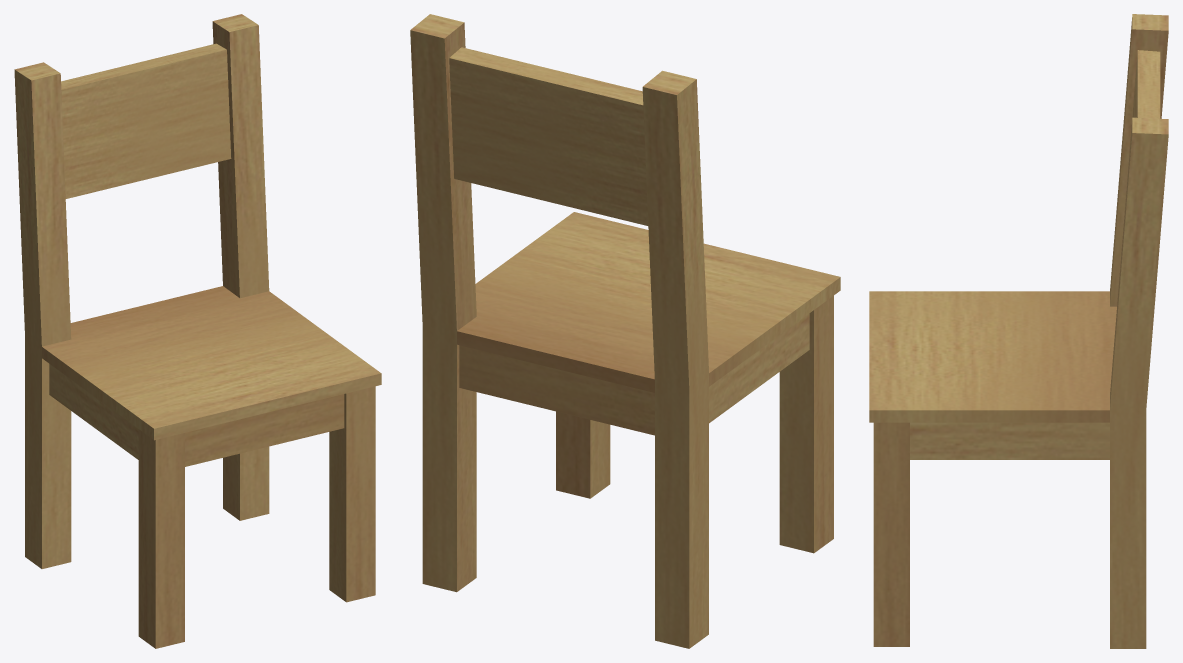
Rendered from chair.fbx.
3 renders of one model, left to right at view 1: azimuth 30°, elevation 25°; view 2: azimuth 150°, elevation 25°; view 3: azimuth 270°, elevation 25°, orthographic. The views are drawn at different scales.
Visible parts, largest first — view 1: chairA; view 2: chairA; view 3: chairA.
Boxes of the visible parts, <box> form: chairA: <box>14,14,381,648</box>; chairA: <box>410,14,840,648</box>; chairA: <box>869,14,1168,648</box>.
Bounding box in the file's own units: 3.72 × 7.52 × 3.96.
Materials: 1 (1 with a texture image).
